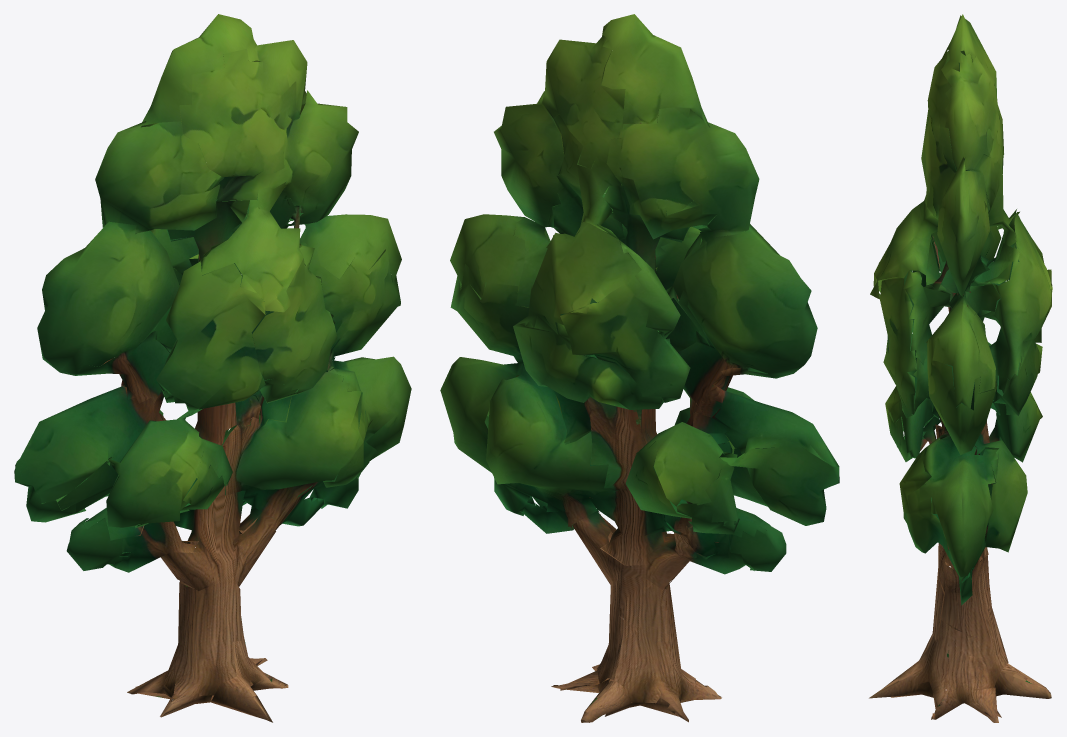
The picture shows the model from 3 angles, left to right: view 1: azimuth 30°, elevation 25°; view 2: azimuth 150°, elevation 25°; view 3: azimuth 270°, elevation 25°; orthographic projection.
Visible parts, largest first — view 1: quad; view 2: quad; view 3: quad.
Boxes of the visible parts, left/top/right/bottom form: quad: left=14, top=14, right=411, bottom=722; quad: left=440, top=14, right=839, bottom=722; quad: left=869, top=14, right=1052, bottom=722.
Bounding box in the file's own units: 368 × 600 × 147.
1 material, 1 textured.
